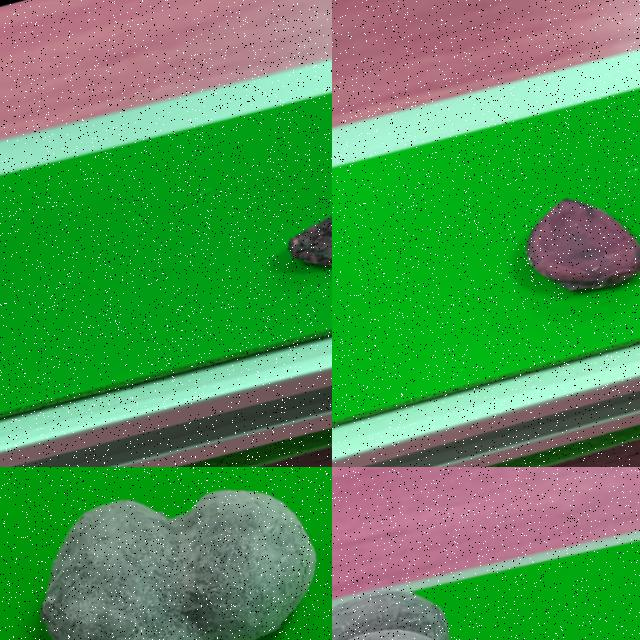Agglomerated_cocoabeans: (0, 467, 331, 639), (332, 524, 619, 639)
Flat_cocoabeans: (455, 147, 639, 347), (208, 154, 331, 316)
